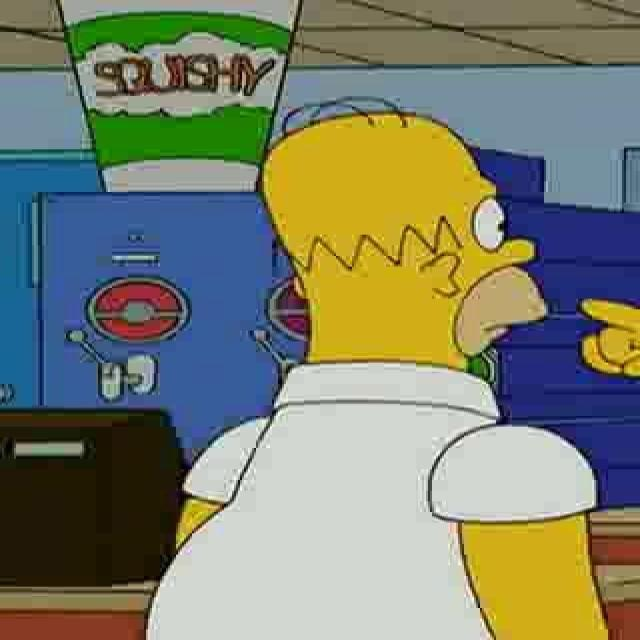Homer Simpson: (255, 97, 557, 375)
